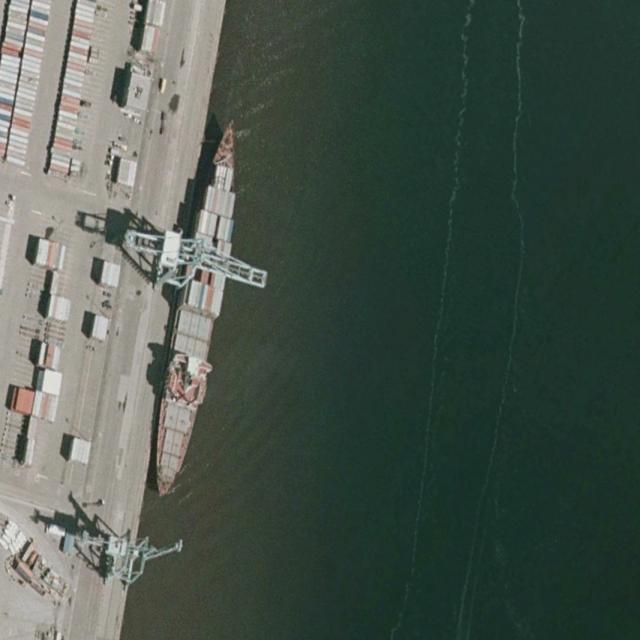Container Ship: (146, 113, 253, 505)
